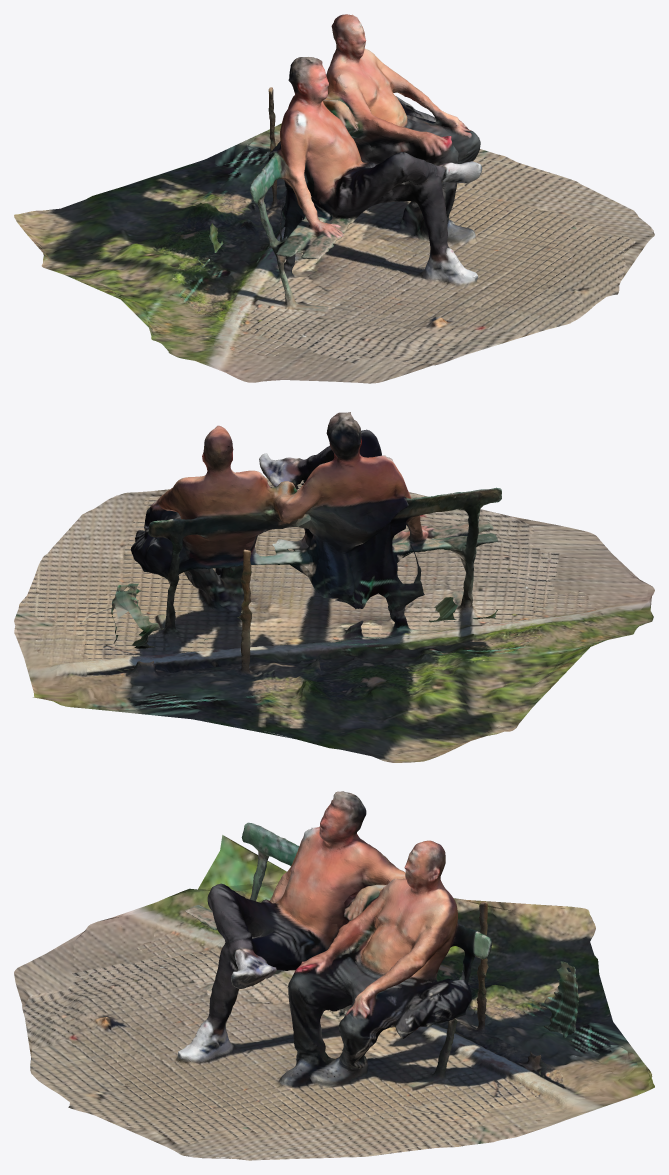
File: parks are beautiful and i am being honest.glb
The picture shows the model from 3 angles, top to bottom: view 1: azimuth 30°, elevation 25°; view 2: azimuth 150°, elevation 25°; view 3: azimuth 270°, elevation 25°; orthographic projection. The views are drawn at different scales.
Parts seen in each view (by area): view 1: mesh; view 2: mesh; view 3: mesh.
Part boxes in pixels (x1,y1,x2,y2): mesh: [14, 14, 654, 383]; mesh: [14, 412, 654, 762]; mesh: [14, 791, 654, 1160].
Bounding box in the file's own units: 3.25 × 1.25 × 3.21.
Materials: 1 (1 with a texture image).
